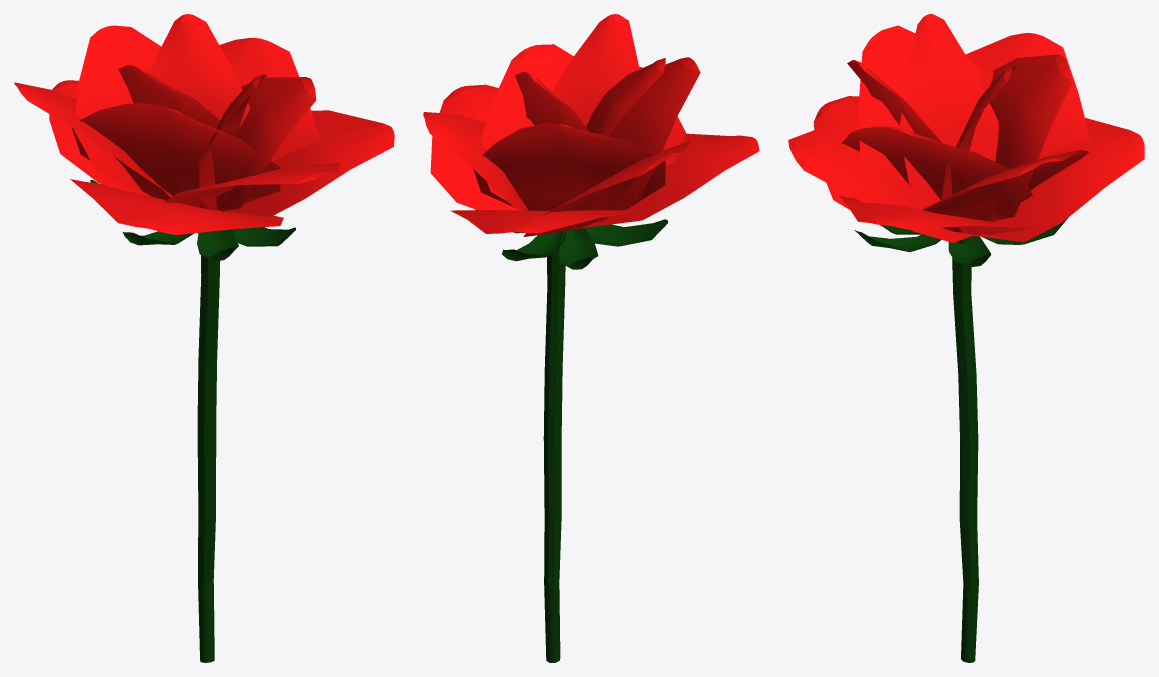
The model's file is Weapon_Rose.FBX.
The picture shows the model from 3 angles, left to right: view 1: azimuth 30°, elevation 25°; view 2: azimuth 150°, elevation 25°; view 3: azimuth 270°, elevation 25°; orthographic projection. The views are drawn at different scales.
Parts seen in each view (by area): view 1: Object013; view 2: Object013; view 3: Object013.
Boxes of the visible parts, box(x1,y1,x2,y2) form: Object013: box(14, 14, 394, 662); Object013: box(423, 14, 759, 662); Object013: box(788, 14, 1144, 662).
Size of the model in its own units: 83.06 by 167 by 89.44.
